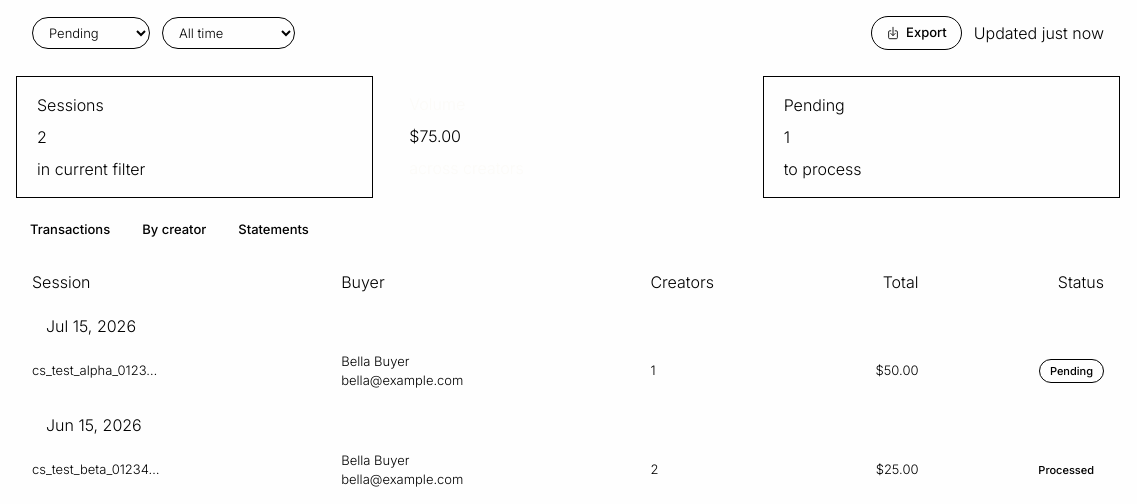
Test: CreatorPayments — accounting views › rolls sessions up by month with a totals row in the Statements sub-view
Click the tab "Statements".
click(274, 230)  # box top-left (224, 214), bottom-right (323, 246)
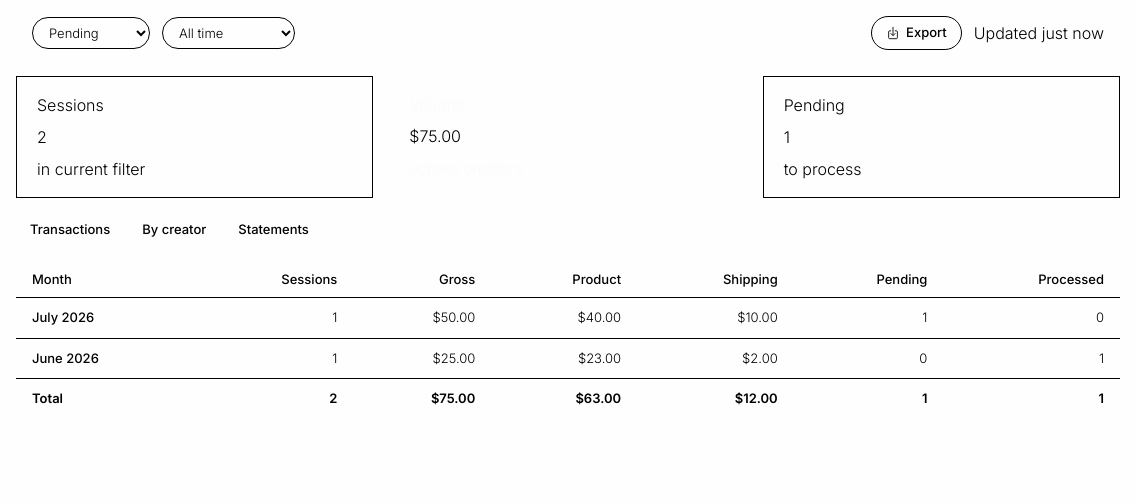
Expected: the text "Total" is shown, top-left (16, 378), bottom-right (194, 418)
Expected: the text "July 2026" is shown, top-left (16, 298), bottom-right (194, 338)
Expected: the text "June 2026" is shown, top-left (16, 338), bottom-right (194, 378)
